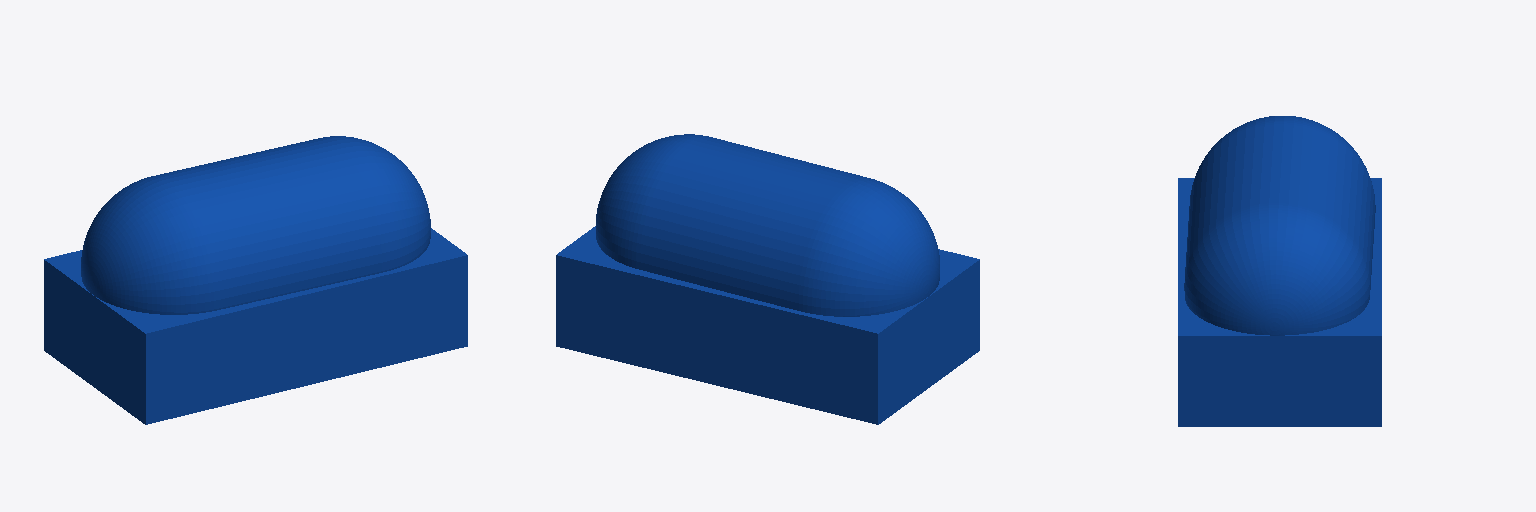
Rendered from FuleTank.obj.
3 renders of one model, left to right at view 1: azimuth 30°, elevation 25°; view 2: azimuth 150°, elevation 25°; view 3: azimuth 270°, elevation 25°, orthographic.
Visible parts, largest first — view 1: Capsule001, Box001; view 2: Capsule001, Box001; view 3: Capsule001, Box001.
Part boxes in pixels (x1,y1,x2,y2): Capsule001: (81, 136, 430, 314); Box001: (44, 228, 467, 424); Capsule001: (596, 134, 939, 316); Box001: (556, 226, 979, 424); Capsule001: (1184, 116, 1375, 335); Box001: (1178, 178, 1381, 426).
Size of the model in its own units: 15 by 8.22 by 8.2.